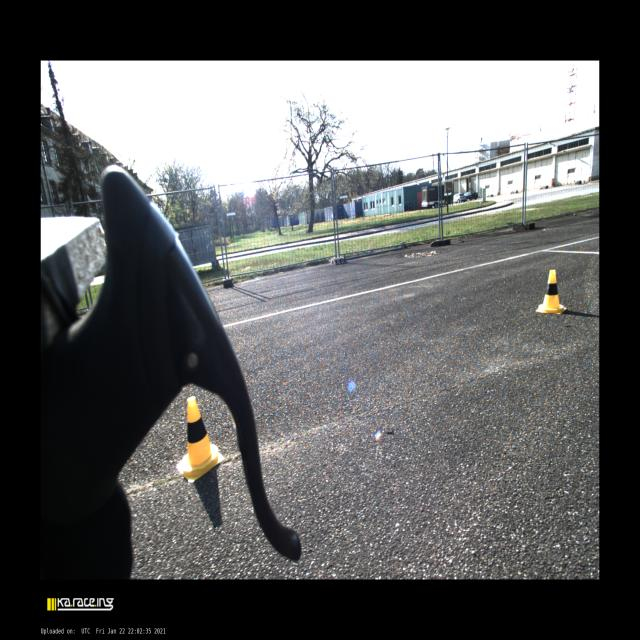yellow_cone: (176, 396, 224, 483), (536, 270, 567, 314)
